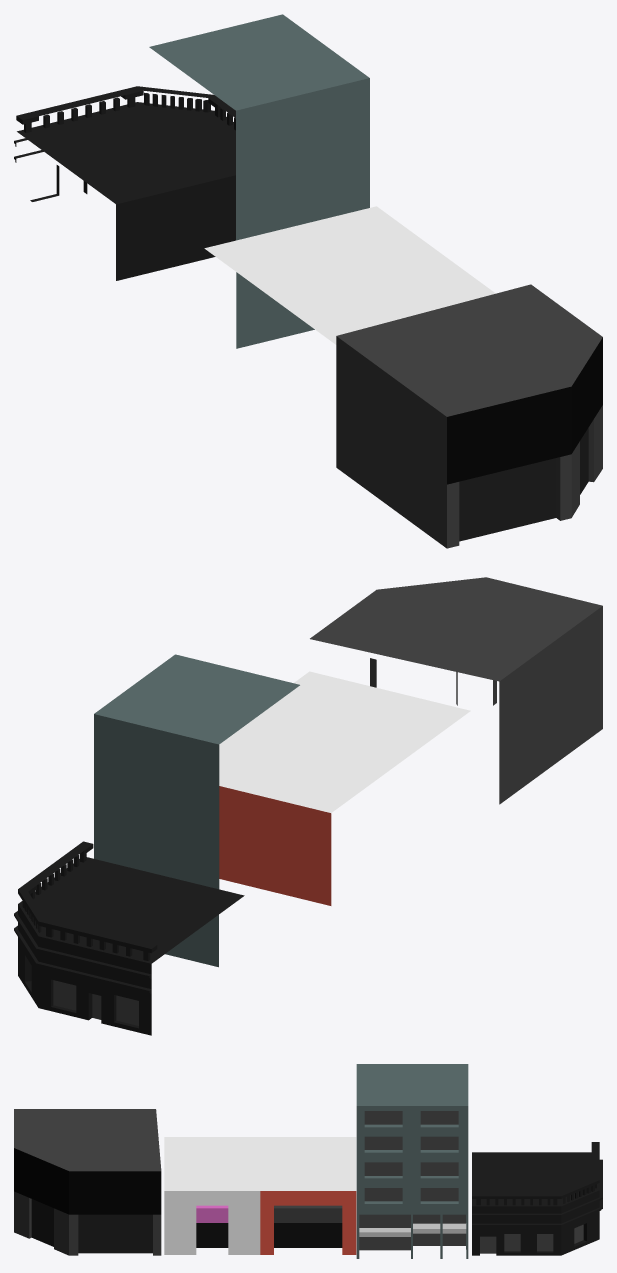
The model's file is Edificio-6-izquierda.glb.
The picture shows the model from 3 angles, top to bottom: view 1: azimuth 30°, elevation 25°; view 2: azimuth 150°, elevation 25°; view 3: azimuth 270°, elevation 25°; orthographic projection. The views are drawn at different scales.
Visible parts, largest first — view 1: Plane, Plane3, Plane4, Plane2; view 2: Plane, Plane2, Plane3, Plane4; view 3: Plane2, Plane3, Plane, Plane4.
Part boxes in pixels (box(x1,y1,x2,y2)): Plane: box(336, 284, 602, 548); Plane3: box(149, 14, 369, 348); Plane4: box(14, 86, 235, 280); Plane2: box(204, 206, 495, 344); Plane: box(310, 577, 602, 804); Plane2: box(219, 671, 470, 905); Plane3: box(94, 654, 299, 967); Plane4: box(14, 841, 244, 1035); Plane2: box(164, 1137, 356, 1254); Plane3: box(356, 1064, 468, 1258); Plane: box(14, 1109, 161, 1255); Plane4: box(472, 1142, 602, 1255).
Size of the model in its own units: 21.38 by 23.75 by 82.91.
